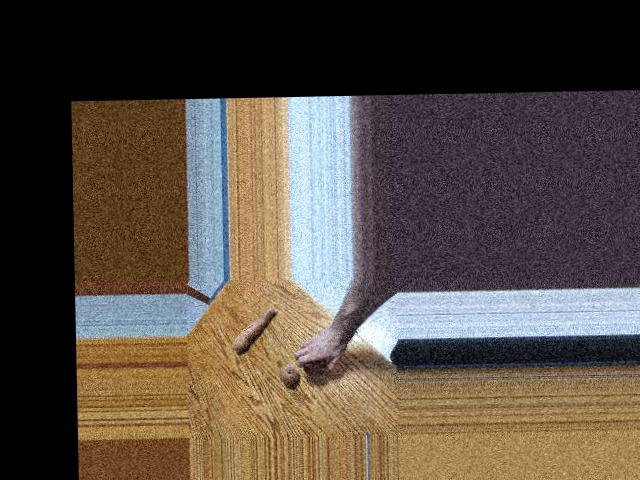onion: (303, 357, 325, 374)
